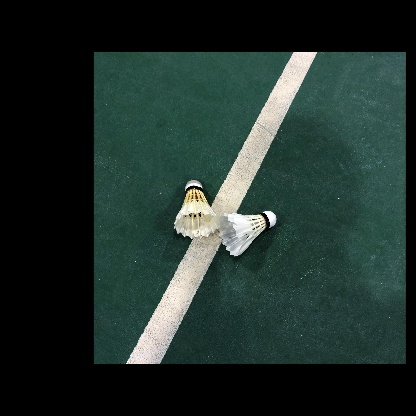ball_single: (217, 211, 276, 257), (174, 180, 220, 239)
